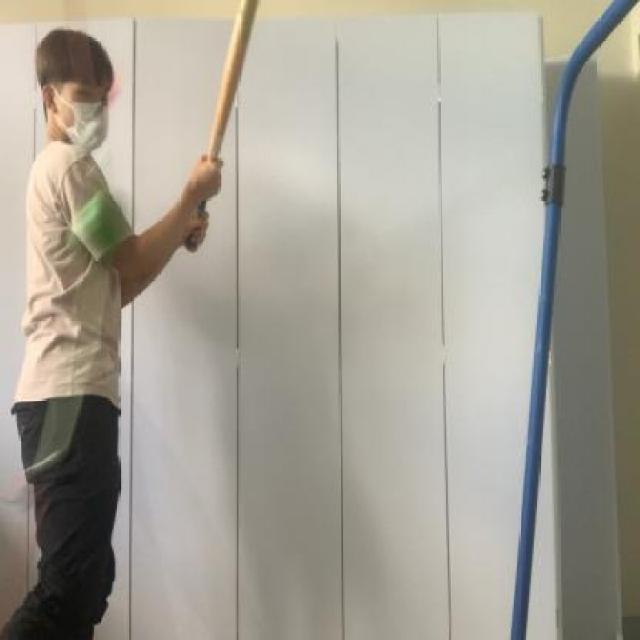baseball: (67, 187, 142, 261)
